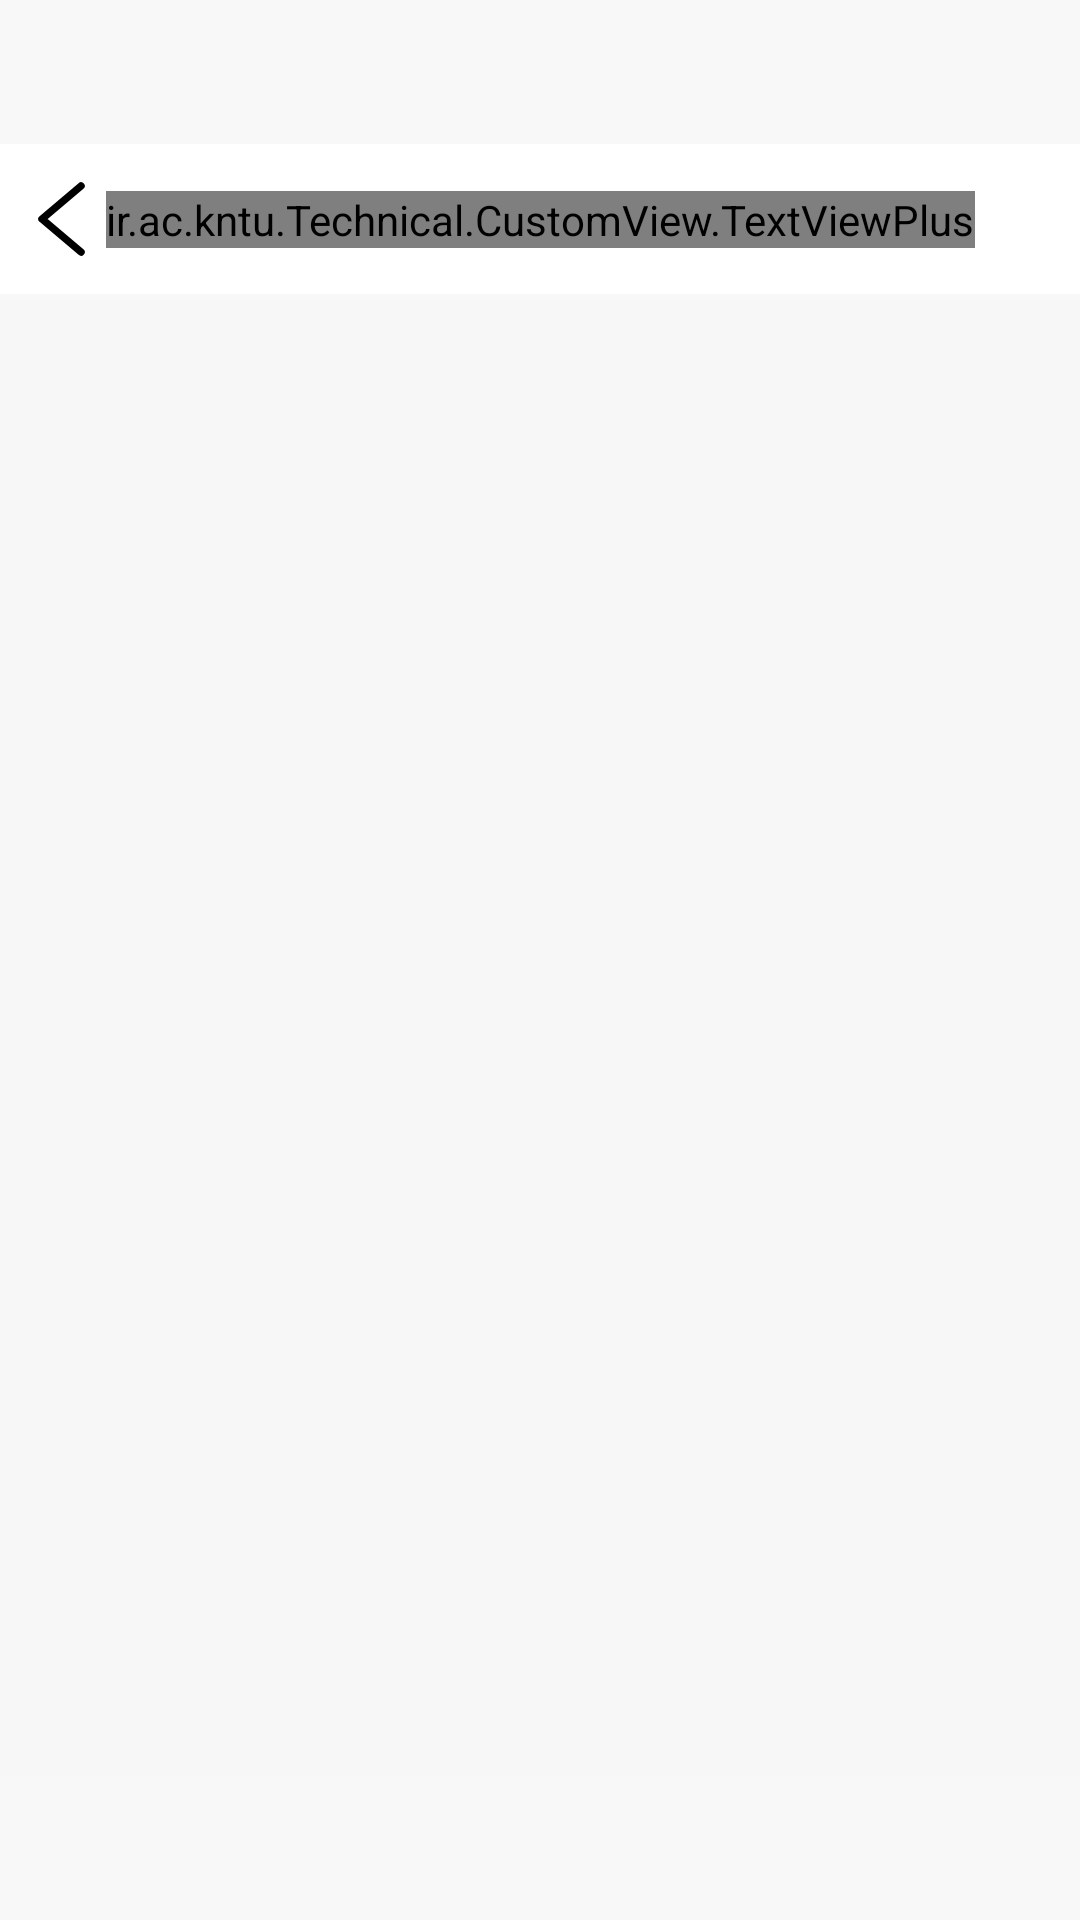

Where icons sit on this 1080 × 1920 app screen, as [x1=x1, y1=y1, x2=x2, y2=y2]:
back: [x1=38, y1=182, x2=123, y2=256]
